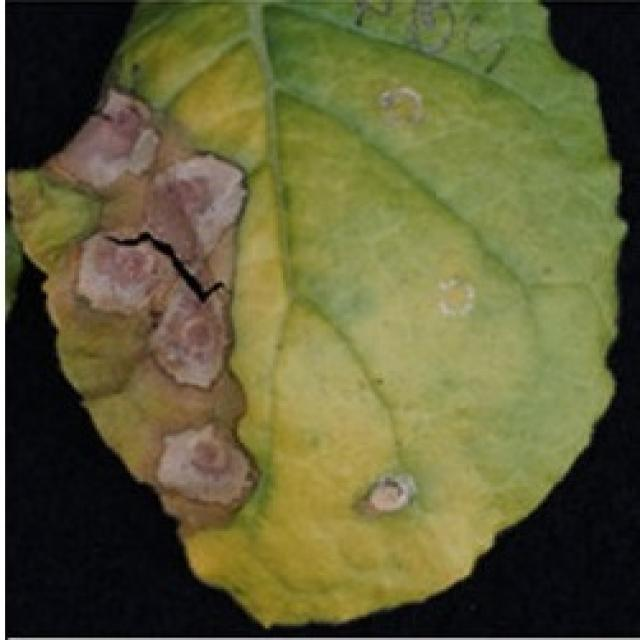Fusarium Wilt: (35, 62, 301, 544)
